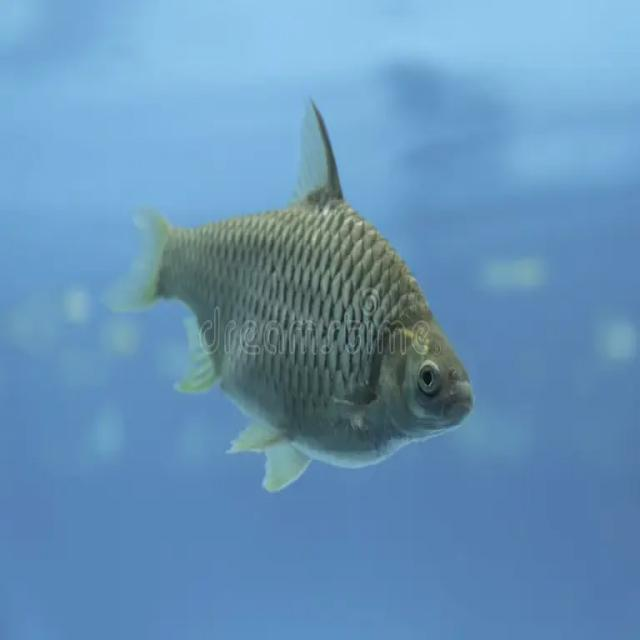Common carp: (101, 88, 473, 496)
